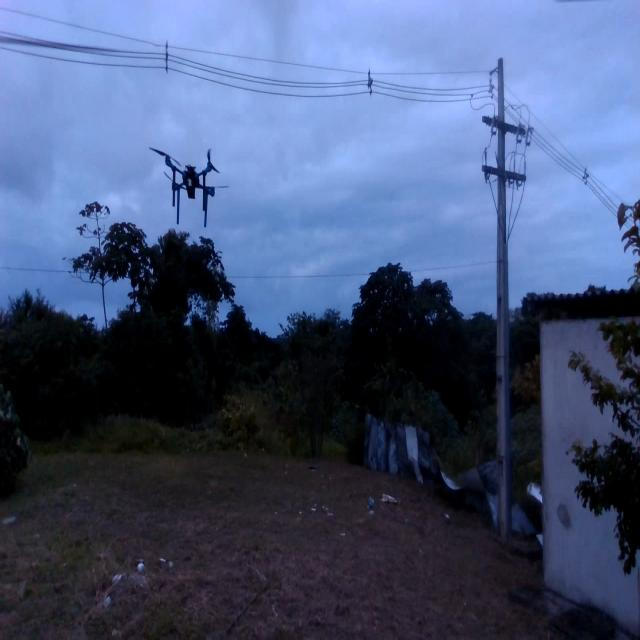-uav-: (148, 128, 236, 230)
